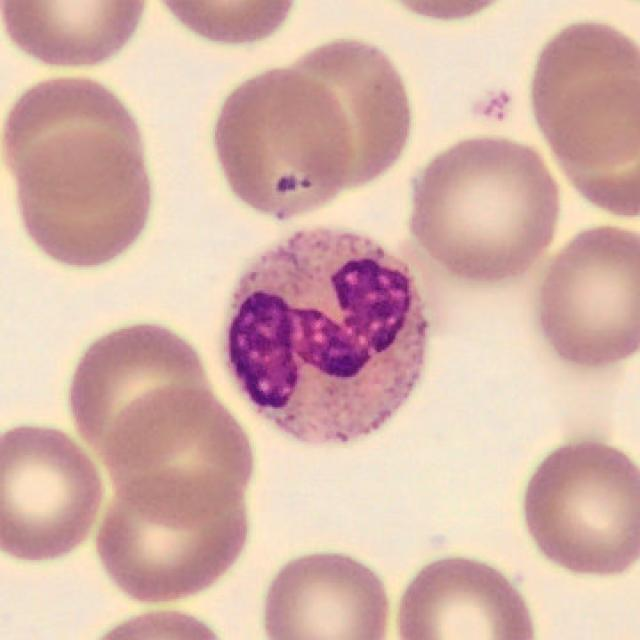Neutrofilo segmentado: (228, 229, 425, 441)
